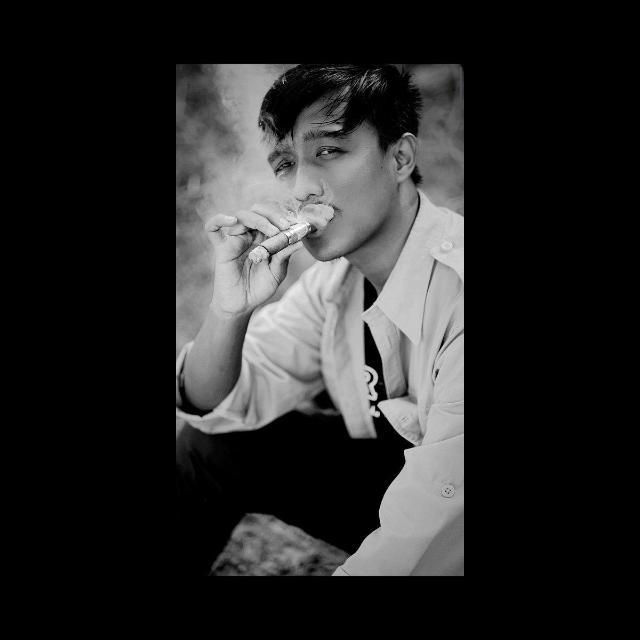rokok: (242, 218, 322, 264)
